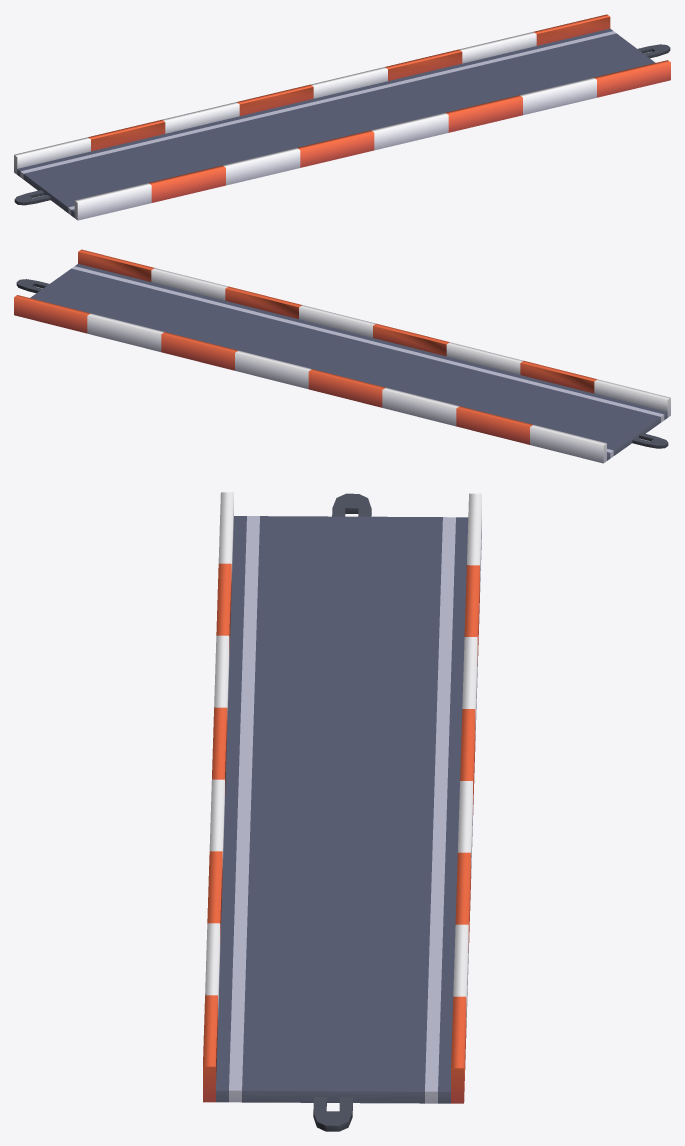
The model's file is track-road-wide-straight.012_lev2.glb.
The picture shows the model from 3 angles, top to bottom: view 1: azimuth 30°, elevation 25°; view 2: azimuth 150°, elevation 25°; view 3: azimuth 270°, elevation 25°; orthographic projection. The views are drawn at different scales.
Parts seen in each view (by area): view 1: track-road-wide-straight.012_lev2; view 2: track-road-wide-straight.012_lev2; view 3: track-road-wide-straight.012_lev2.
Part boxes in pixels (<box>): track-road-wide-straight.012_lev2: <box>14,14,670,220</box>; track-road-wide-straight.012_lev2: <box>14,249,670,463</box>; track-road-wide-straight.012_lev2: <box>203,492,481,1131</box>.
Size of the model in its own units: 11.45 by 0.3 by 2.14.
1 material, 1 textured.
